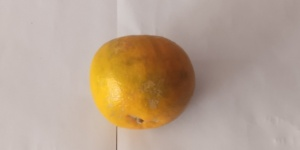BAD: (90, 32, 196, 133)
